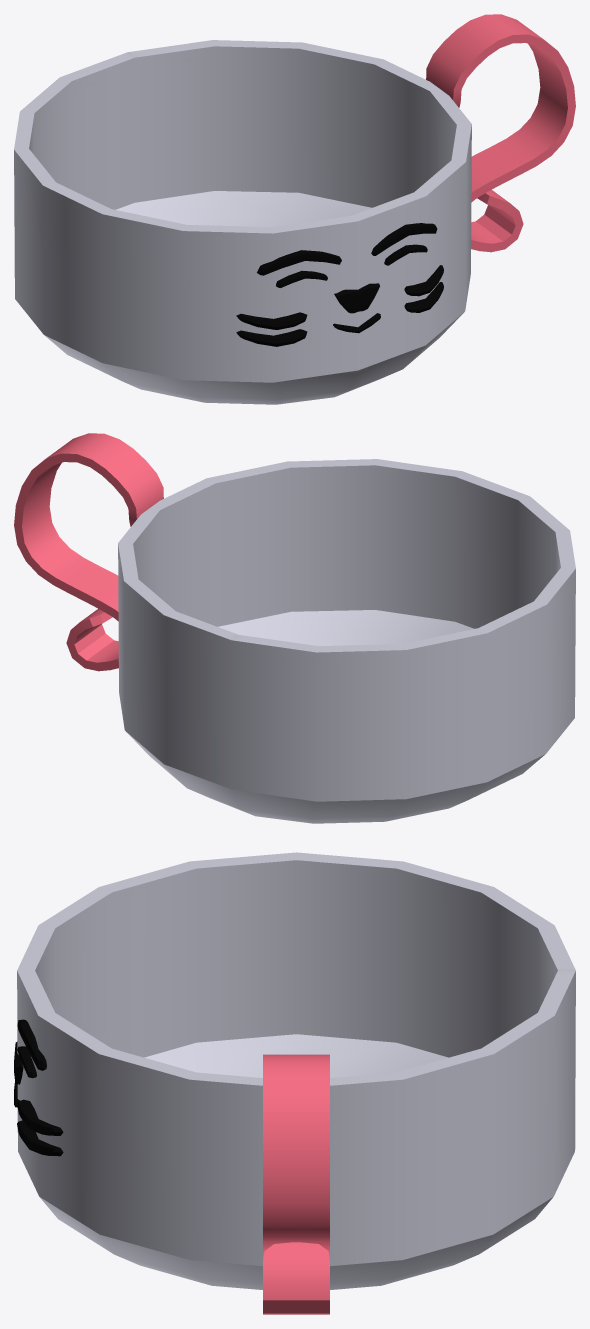
Rendered from Xicara.fbx.
The picture shows the model from 3 angles, top to bottom: view 1: azimuth 30°, elevation 25°; view 2: azimuth 150°, elevation 25°; view 3: azimuth 270°, elevation 25°; orthographic projection. The views are drawn at different scales.
Parts seen in each view (by area): view 1: Xicara; view 2: Xicara; view 3: Xicara.
Boxes of the visible parts, x1,y1,x2,y2 form: Xicara: [14, 14, 575, 404]; Xicara: [14, 433, 575, 823]; Xicara: [14, 852, 575, 1314].
Size of the model in its own units: 25.96 by 11.6 by 20.11.
